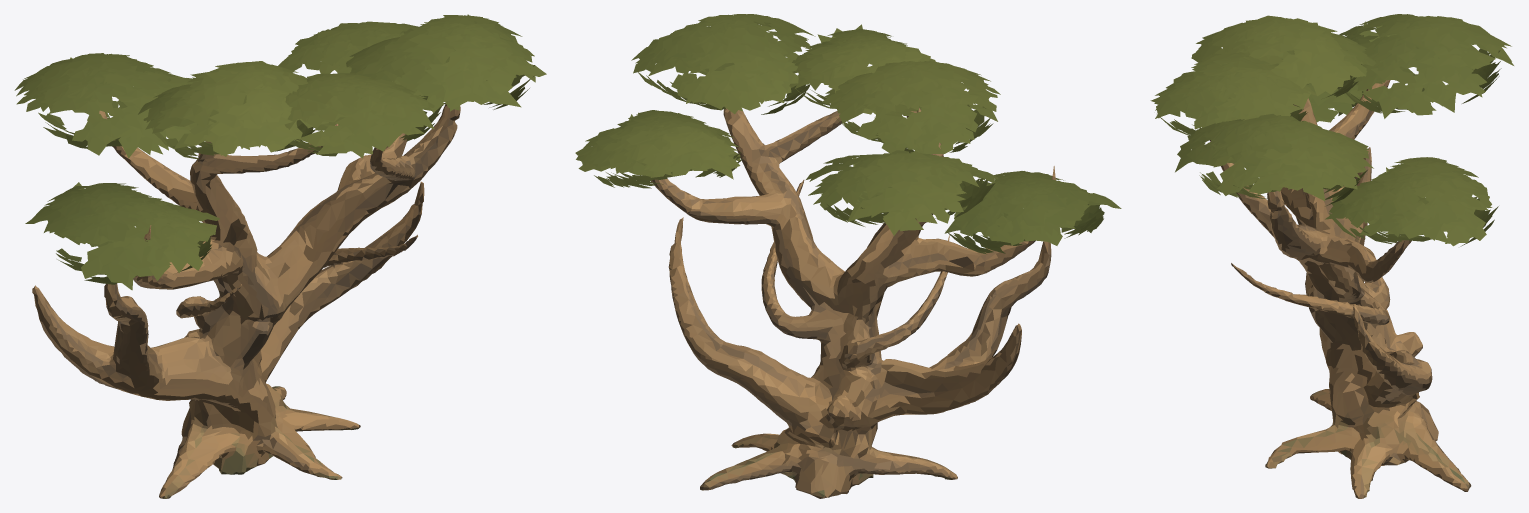
The model's file is splitcrown.glb.
3 renders of one model, left to right at view 1: azimuth 30°, elevation 25°; view 2: azimuth 150°, elevation 25°; view 3: azimuth 270°, elevation 25°, orthographic. The views are drawn at different scales.
Parts seen in each view (by area): view 1: splitcrown broad layered branch fans, splitcrown continuous living boughs metre-v2; view 2: splitcrown broad layered branch fans, splitcrown continuous living boughs metre-v2; view 3: splitcrown broad layered branch fans, splitcrown continuous living boughs metre-v2.
Boxes of the visible parts, bbox=[...] form: splitcrown broad layered branch fans: bbox=[14, 14, 546, 290]; splitcrown continuous living boughs metre-v2: bbox=[32, 104, 460, 498]; splitcrown broad layered branch fans: bbox=[575, 14, 1121, 254]; splitcrown continuous living boughs metre-v2: bbox=[651, 108, 1055, 498]; splitcrown broad layered branch fans: bbox=[1150, 14, 1513, 246]; splitcrown continuous living boughs metre-v2: bbox=[1209, 80, 1471, 498].
Size of the model in its own units: 10.64 by 8.96 by 7.27.
